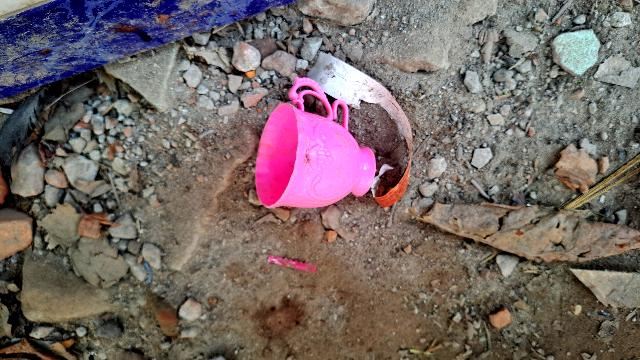hardplastic: (247, 81, 383, 214)
